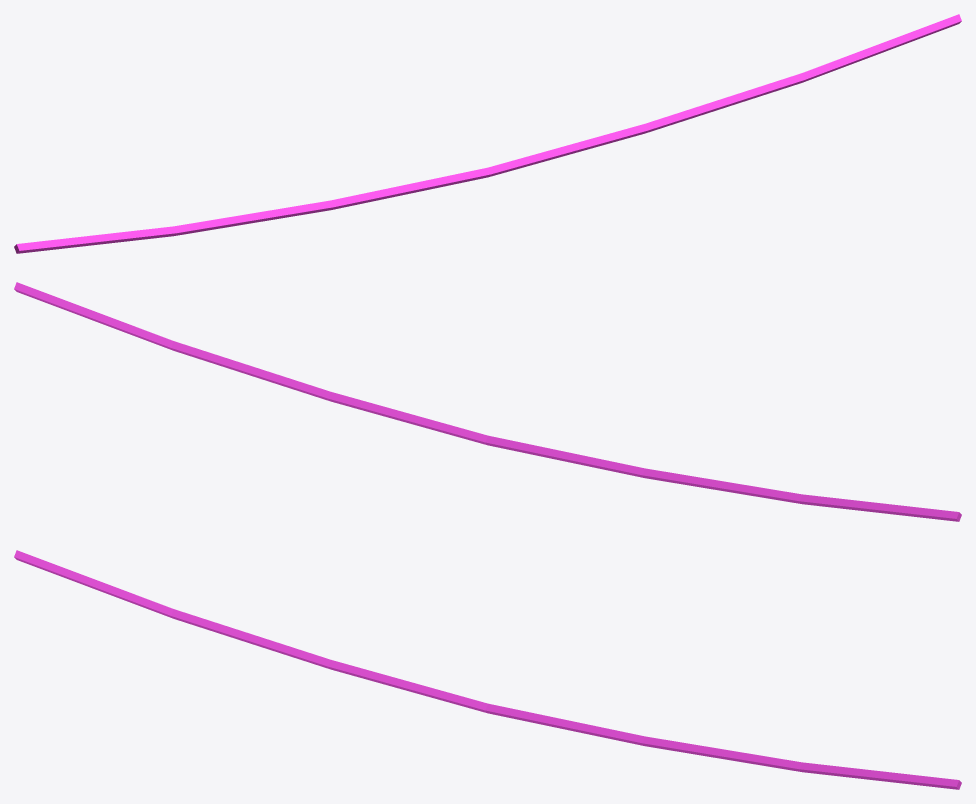
The model's file is SM_Rope_3M_Fantasy.fbx.
3 renders of one model, top to bottom at view 1: azimuth 30°, elevation 25°; view 2: azimuth 150°, elevation 25°; view 3: azimuth 330°, elevation 25°, orthographic.
Visible parts, largest first — view 1: SM_Rope_3M_Fantasy; view 2: SM_Rope_3M_Fantasy; view 3: SM_Rope_3M_Fantasy.
Part boxes in pixels (x1,y1,x2,y2): SM_Rope_3M_Fantasy: [14, 14, 961, 253]; SM_Rope_3M_Fantasy: [14, 282, 961, 521]; SM_Rope_3M_Fantasy: [14, 550, 961, 789].
Bounding box in the file's own units: 3 × 0.1471 × 0.03.
